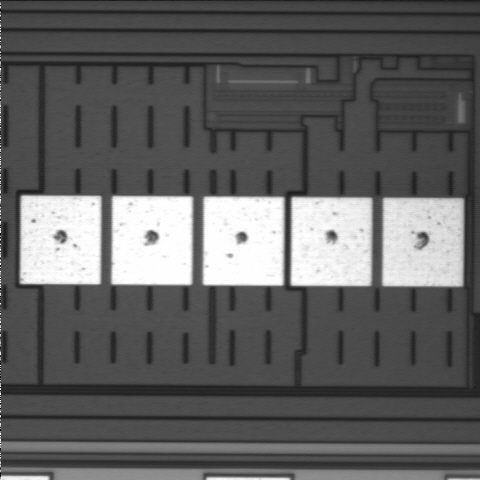pad: (111, 196, 193, 285), (203, 197, 284, 286), (291, 197, 372, 286), (20, 196, 101, 284), (382, 198, 463, 286)
